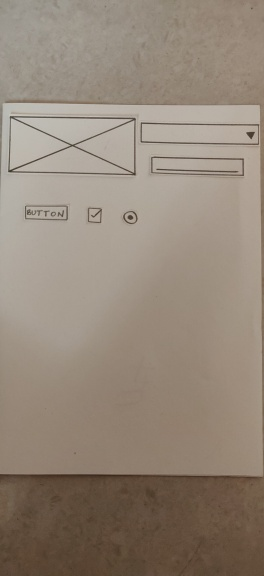button: (19, 199, 71, 228)
checkbox: (89, 199, 105, 234)
dropdown: (140, 118, 261, 149)
img: (6, 110, 139, 180)
radio: (119, 205, 141, 231)
text: (147, 150, 246, 180)
